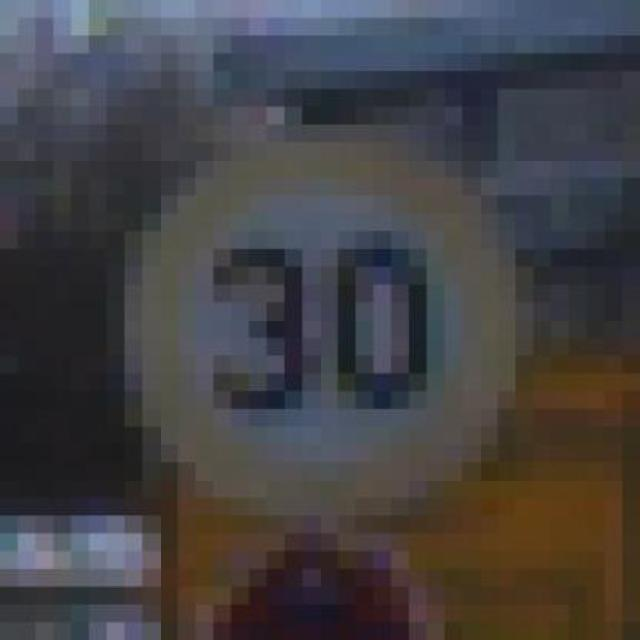Speed Limit 30 KMPh: (125, 124, 604, 534)
